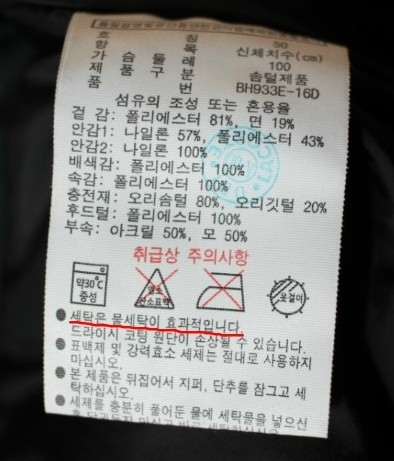KR_hang_dry_in_shade: (264, 273, 309, 318)
KR_no_bleach: (131, 267, 183, 312)
KR_no_iron: (192, 266, 248, 313)
KR_wash_warm_30_neutral: (65, 259, 112, 307)
